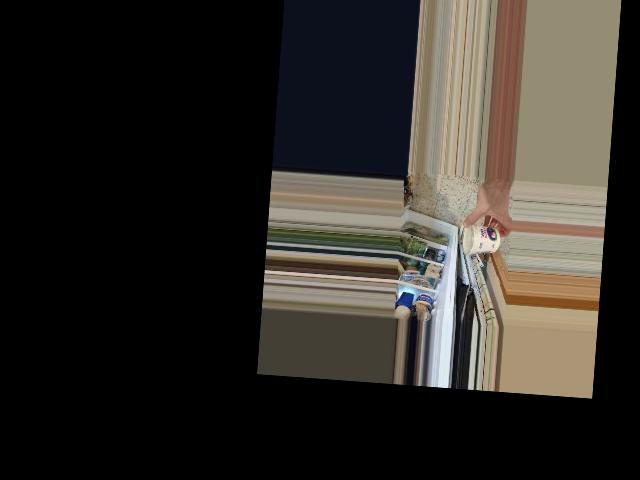cotage: (469, 223, 502, 250)
